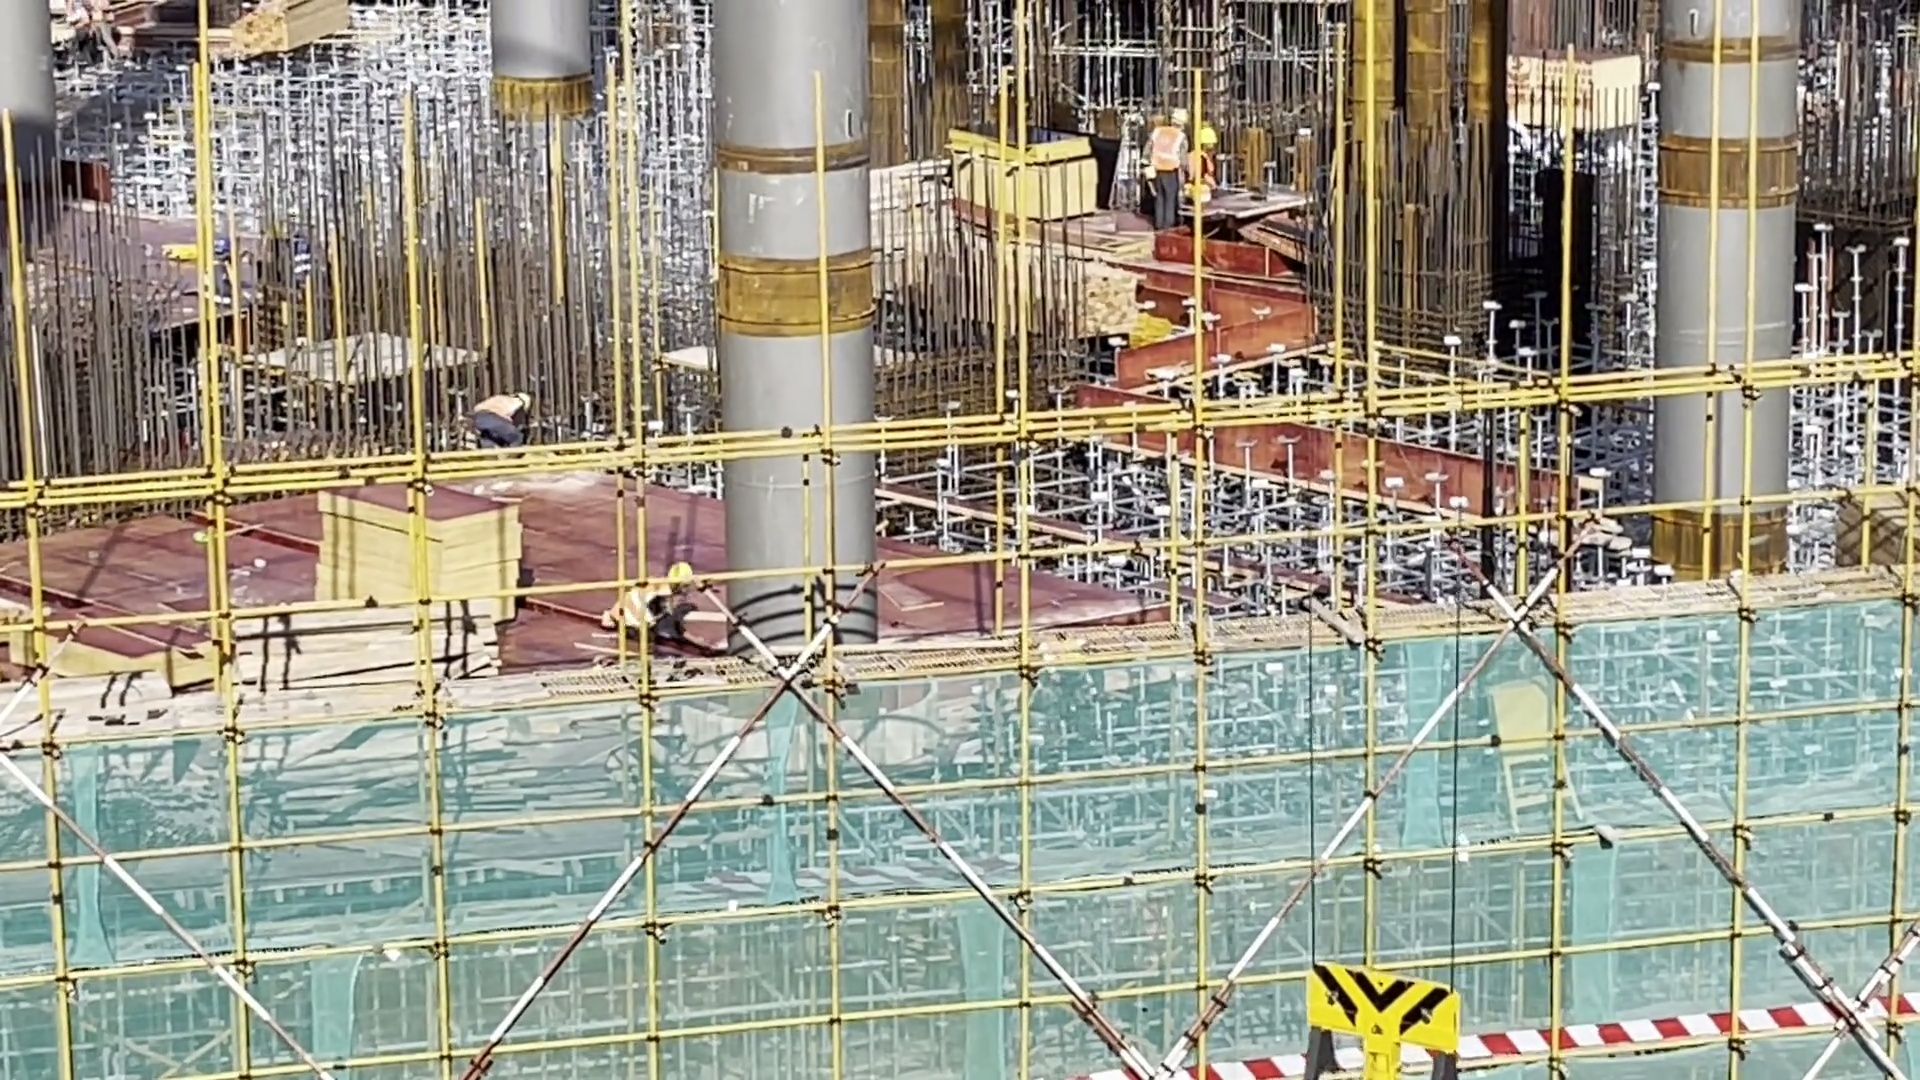board: (306, 486, 533, 631), (940, 126, 1109, 227), (1831, 491, 1920, 567)
ebox: (1480, 666, 1581, 831)
helmet: (665, 560, 694, 595), (512, 391, 533, 414), (1172, 108, 1189, 130), (1200, 126, 1217, 147)
hook: (1281, 934, 1472, 1080)
person: (594, 548, 705, 652), (1134, 98, 1194, 243), (465, 380, 541, 459), (1180, 123, 1231, 220)
vest: (614, 572, 675, 636), (1146, 119, 1188, 182), (472, 383, 522, 421)
wood: (231, 591, 487, 746), (223, 1, 359, 84)
